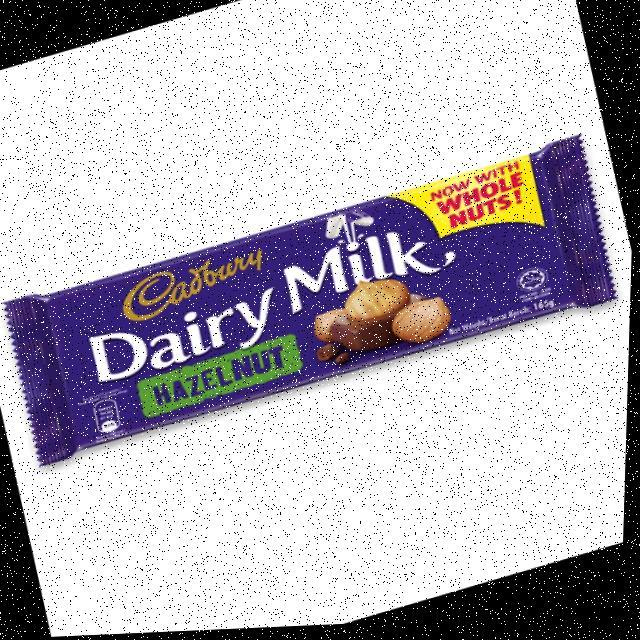cadbury_chocolate: (32, 134, 588, 474)
